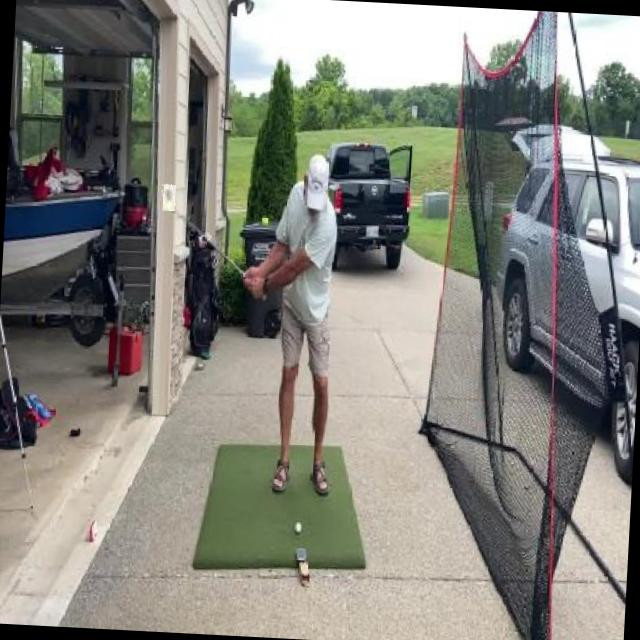club head: (162, 184, 176, 212)
